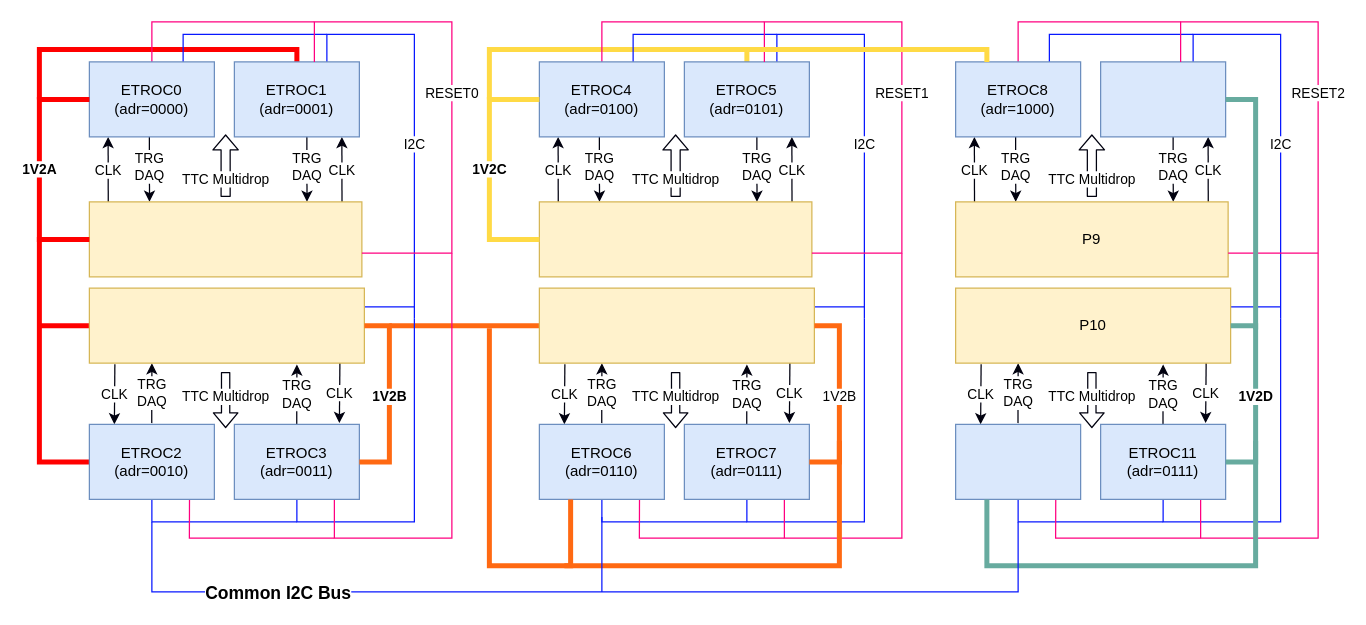
The diagram is 1366 pixels wide and 625 high, and some of its shapes have lost their labels. The shapes that lost their labels are listed below. From the top down, each one's box as (x1, y1, x2, y2) in pixels, then its label:
(1099, 61, 1226, 137): ETROC9 (adr=0101)
(88, 201, 362, 277): P5
(538, 201, 812, 277): P7
(88, 287, 364, 363): P6
(538, 287, 814, 363): P8
(954, 423, 1081, 499): ETROC10 (adr=0110)
